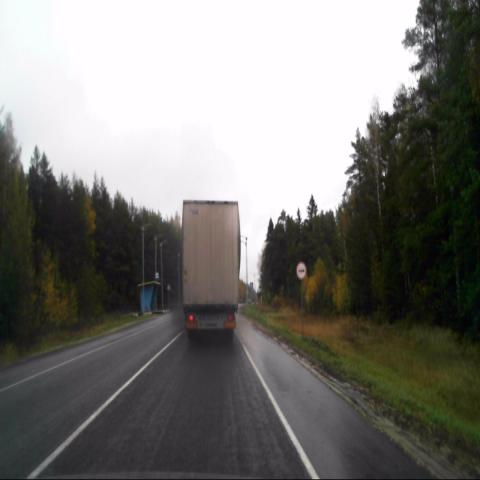3_20: (295, 261, 307, 281)
